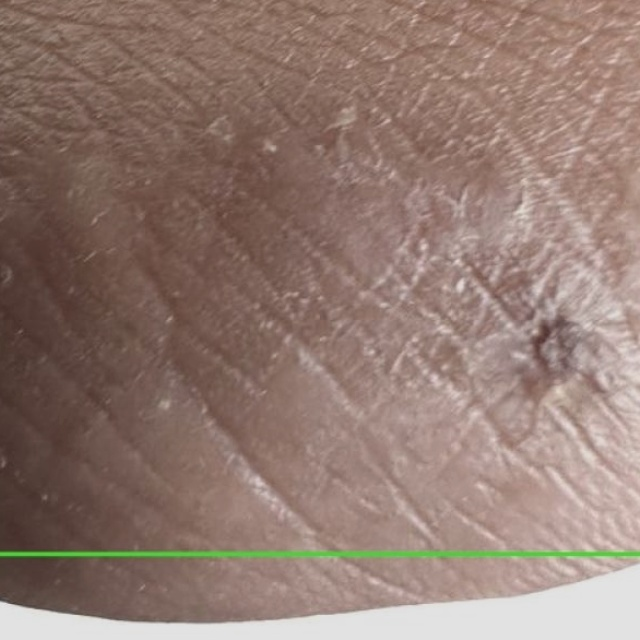Scabies: (0, 553, 639, 639)
